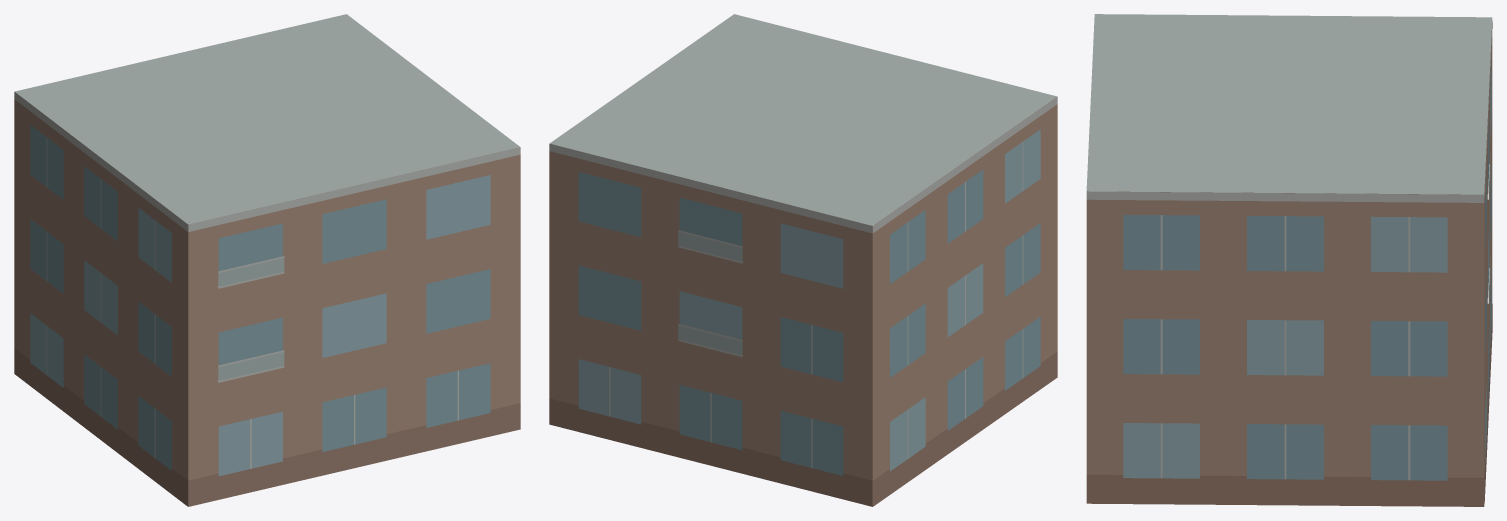
File: survey-upis-32718316.glb
3 renders of one model, left to right at view 1: azimuth 30°, elevation 25°; view 2: azimuth 150°, elevation 25°; view 3: azimuth 270°, elevation 25°, orthographic. The views are drawn at different scales.
Parts seen in each view (by area): view 1: survey-upis-32718316.tmp; view 2: survey-upis-32718316.tmp; view 3: survey-upis-32718316.tmp.
Boxes of the visible parts, <box> form: survey-upis-32718316.tmp: <box>14,14,520,506</box>; survey-upis-32718316.tmp: <box>549,14,1057,506</box>; survey-upis-32718316.tmp: <box>1086,14,1492,506</box>.
Size of the model in its own units: 11.36 by 9.15 by 10.79.
